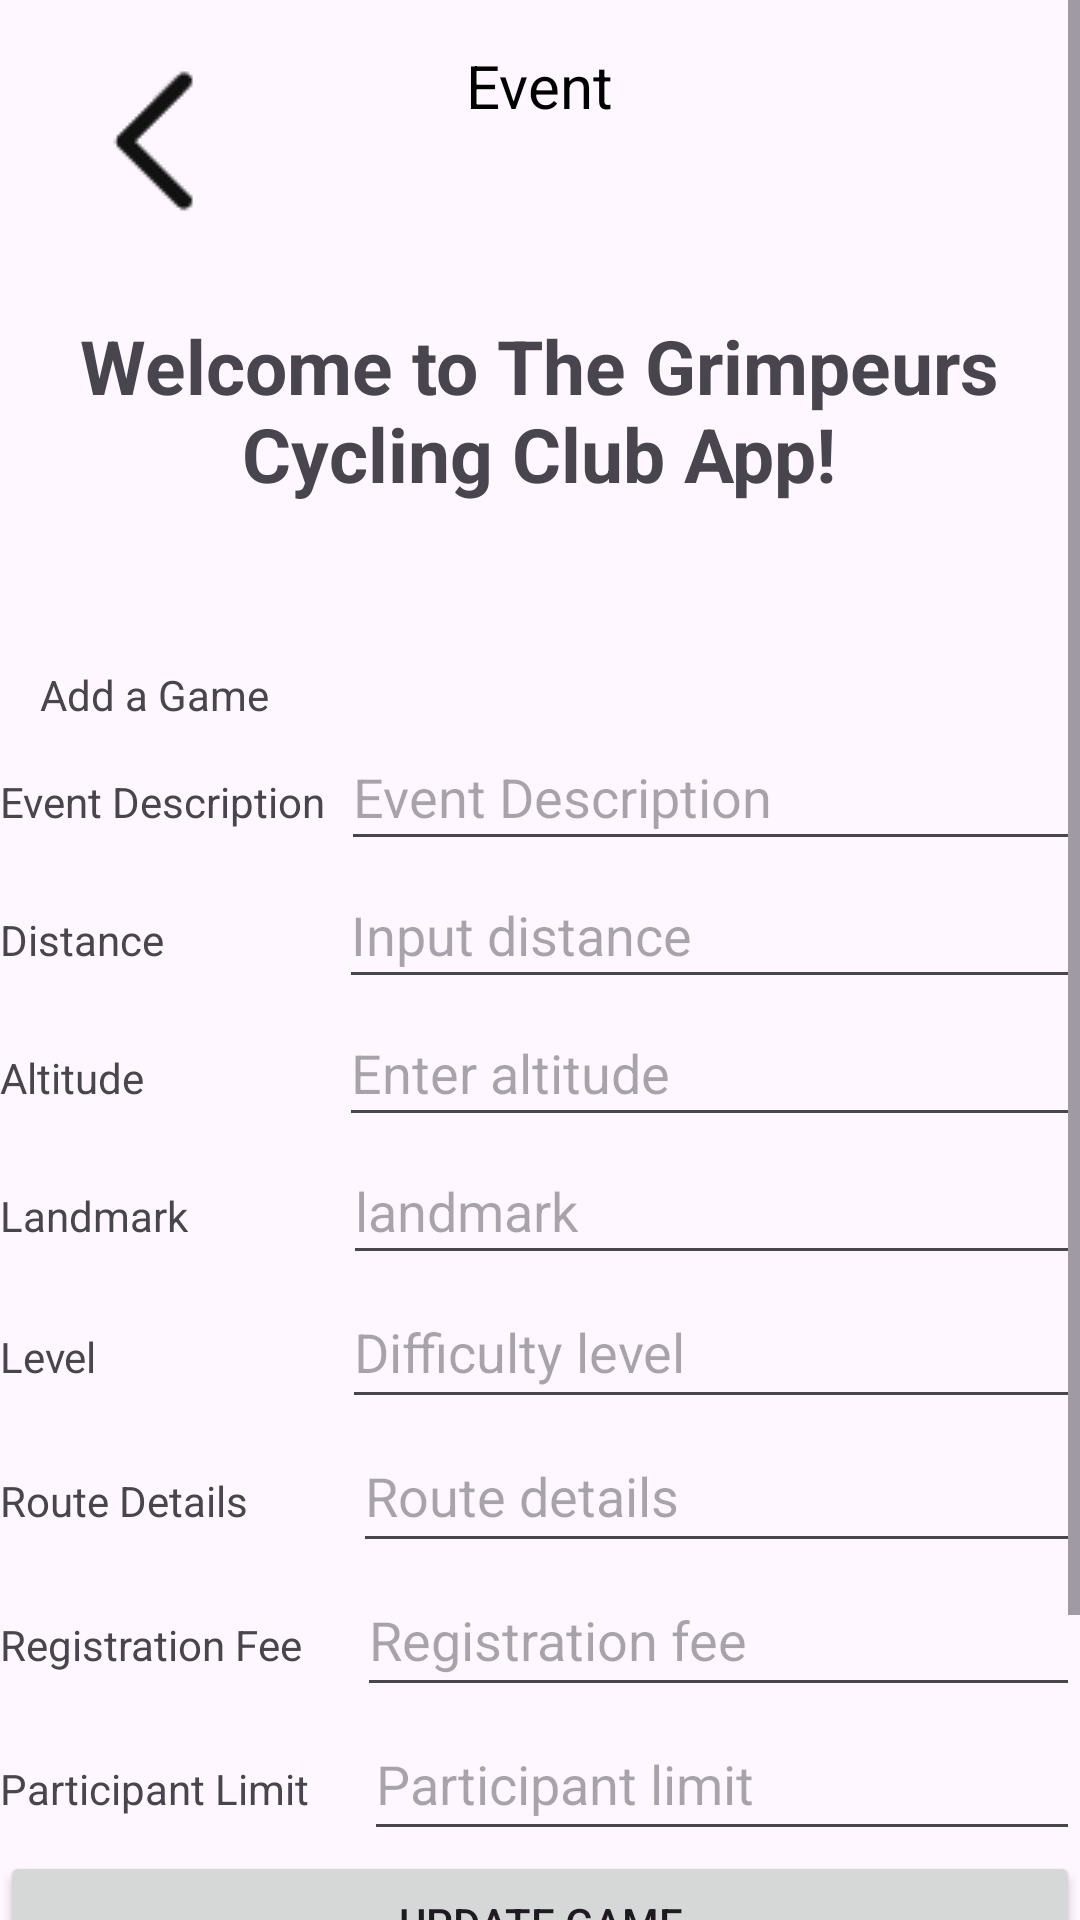

Where icons sit on this 1080×1920 app screen, as (x1, y1, x2, y2):
back: (114, 71, 193, 211)
